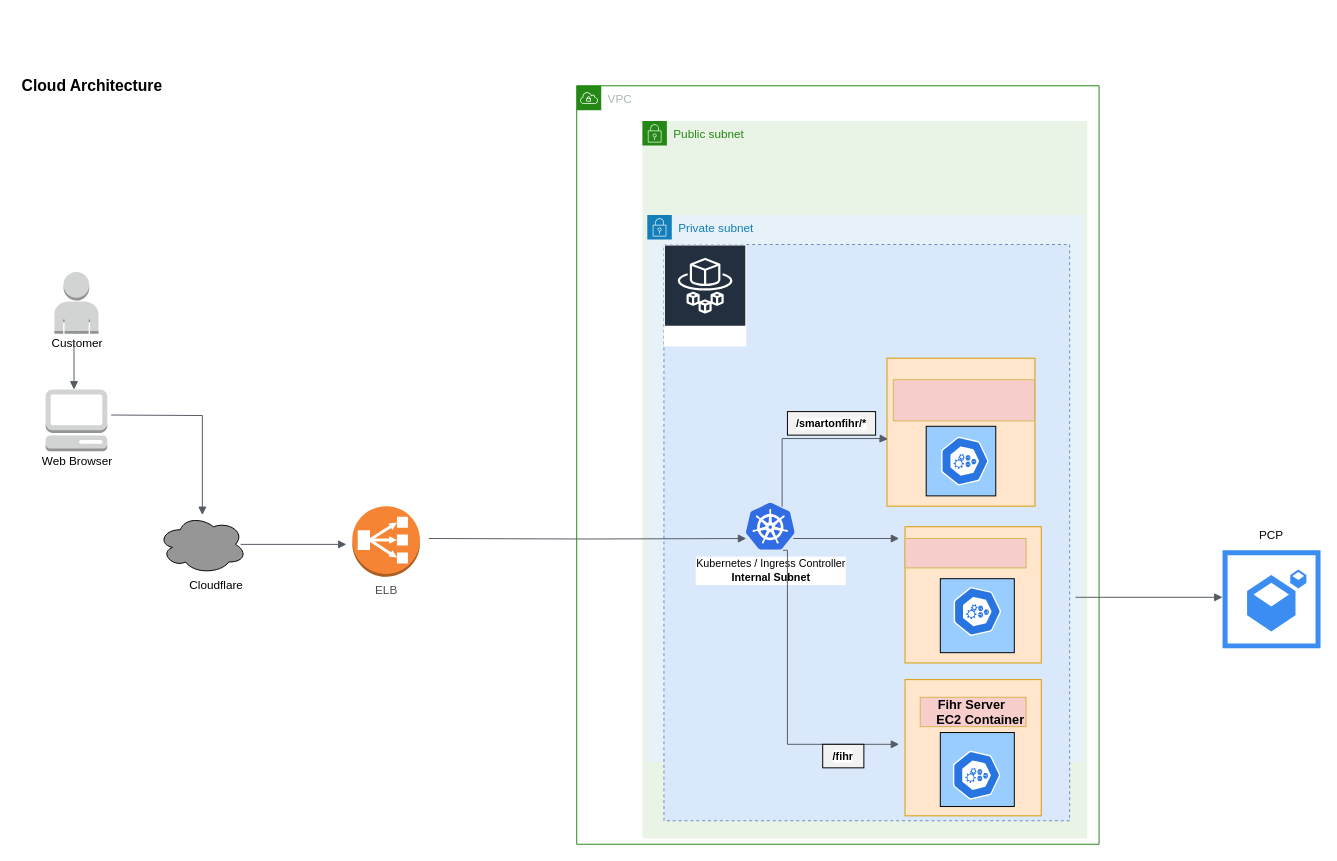
Some shapes in this 1337 by 861 pixel diagram are drawn without their labels. Each missing label, with the centre of its shape:
"ECS on Fargate" belongs at pixel 704 295.
"Patient browser EC2 Container" belongs at pixel 965 553.
"Smart-Launcher EC2 Container" belongs at pixel 963 400.
